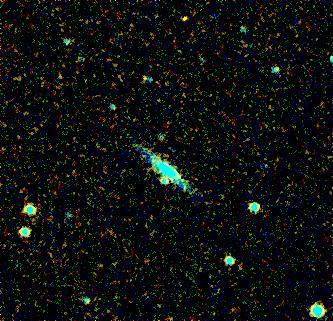star: (172, 5, 202, 35)
